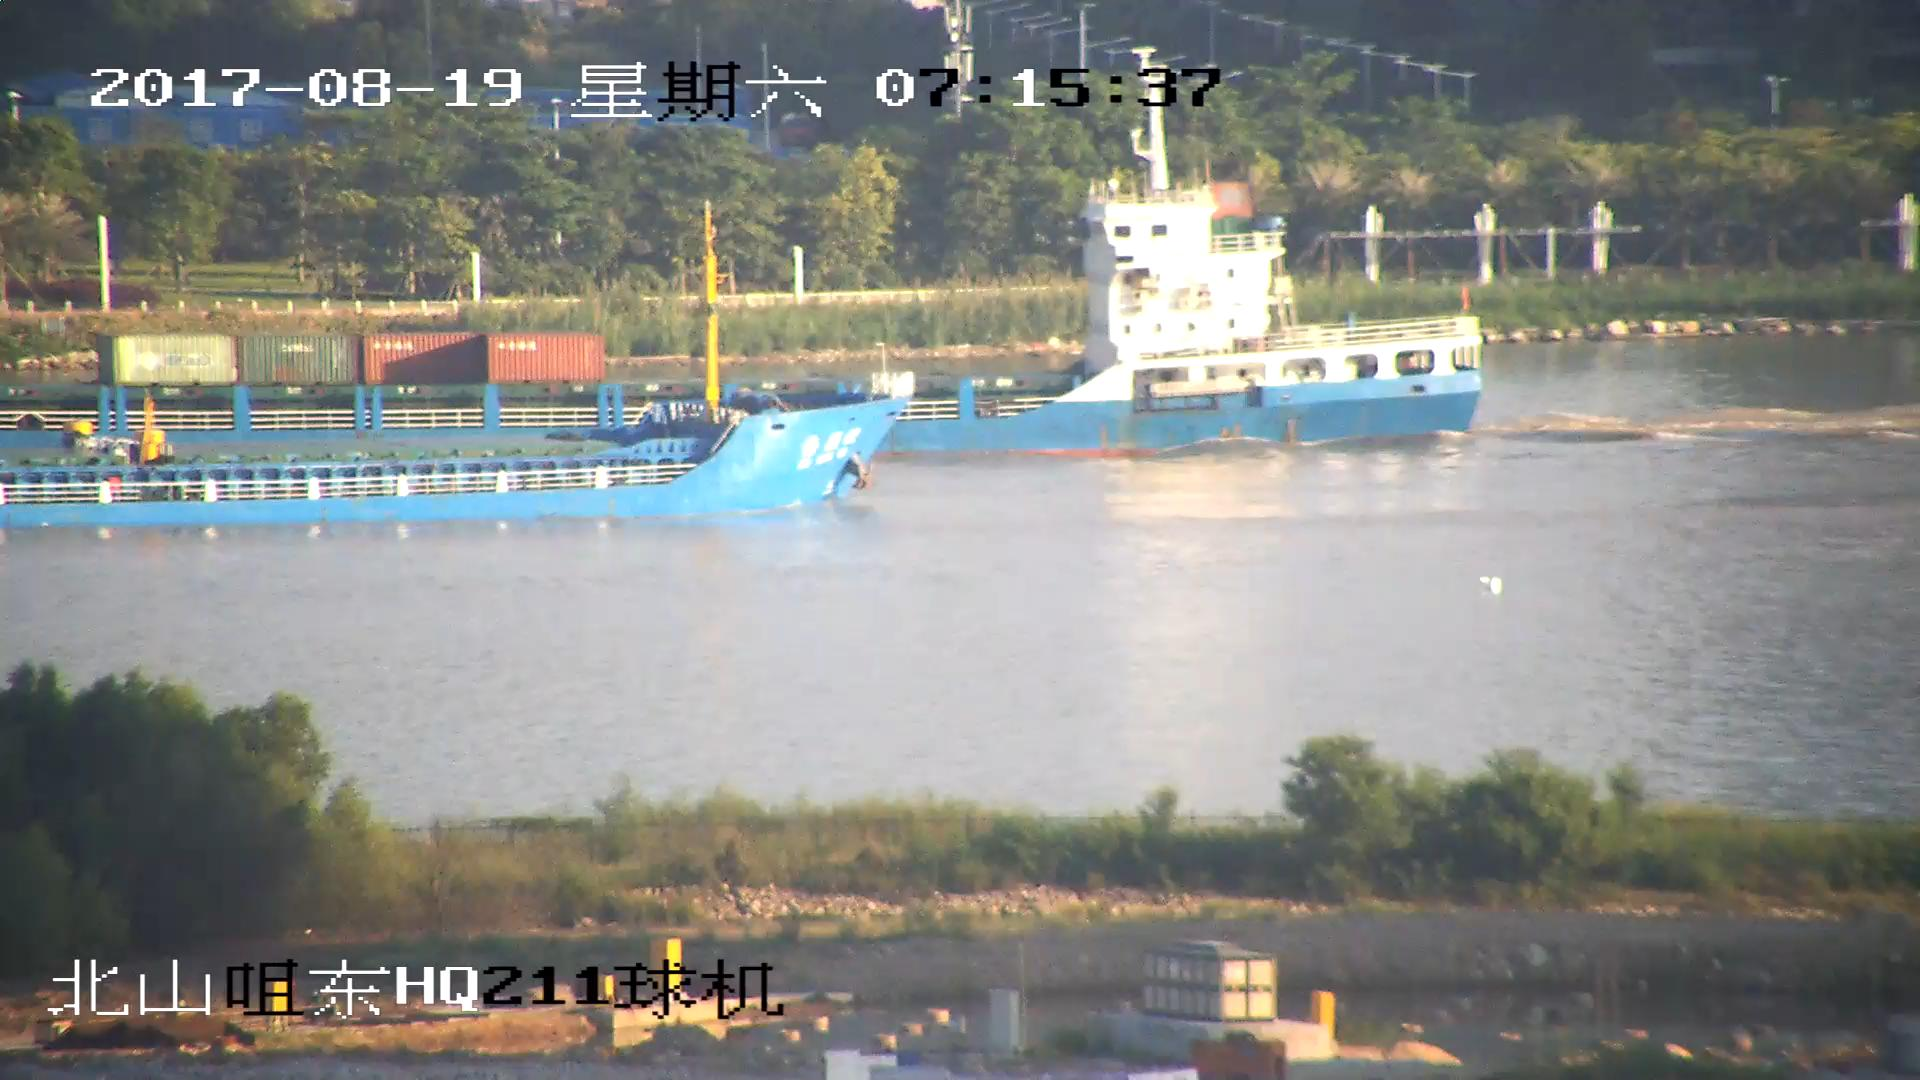general cargo ship: (1, 111, 1481, 463), (1, 202, 917, 520)
